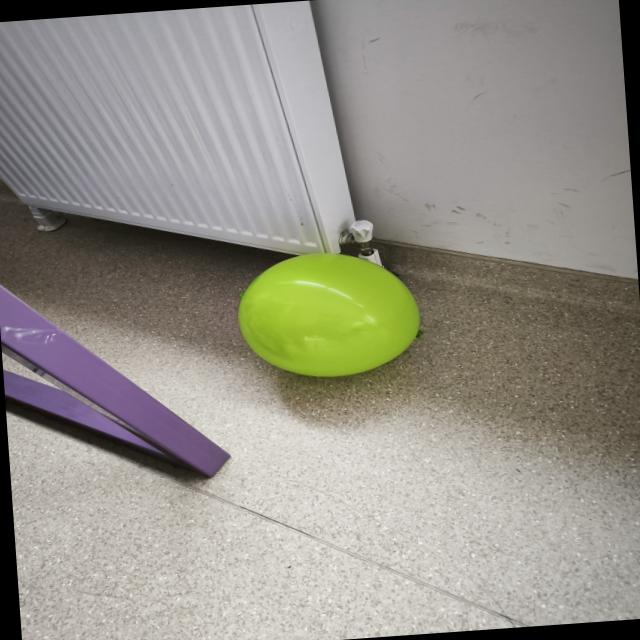balloon: (238, 253, 420, 376)
